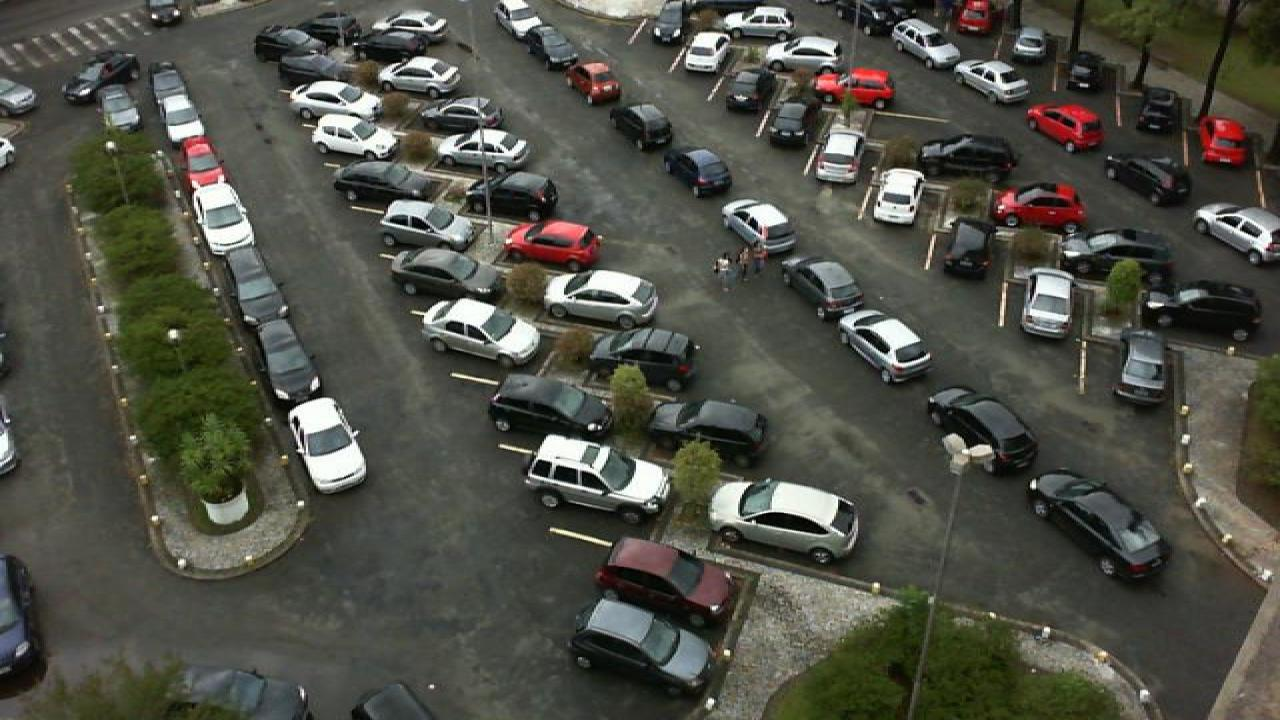Car: (1026, 467, 1176, 578), (564, 596, 714, 698), (592, 536, 740, 631), (706, 477, 864, 564), (522, 433, 676, 521), (926, 386, 1038, 476), (646, 398, 770, 470), (488, 372, 614, 440), (418, 297, 544, 363), (286, 396, 368, 495), (586, 324, 700, 392), (836, 308, 936, 385), (538, 267, 664, 328), (1144, 276, 1264, 338), (390, 246, 506, 301), (1064, 226, 1178, 281), (1188, 201, 1280, 268), (986, 182, 1092, 235), (500, 218, 604, 272), (258, 316, 324, 401), (780, 255, 866, 318), (378, 198, 478, 251), (224, 246, 290, 324), (1108, 326, 1174, 404), (716, 198, 800, 259), (190, 180, 260, 252), (468, 170, 562, 223), (1102, 153, 1192, 208), (916, 132, 1020, 178), (330, 158, 432, 204), (282, 79, 382, 125), (308, 112, 400, 162), (436, 126, 534, 172), (62, 50, 142, 106), (1018, 268, 1078, 341), (1022, 101, 1104, 152), (890, 16, 964, 72), (938, 216, 1000, 280), (662, 146, 736, 198), (952, 58, 1032, 106), (810, 66, 898, 108), (378, 55, 464, 96), (606, 102, 674, 153), (418, 95, 502, 136), (866, 169, 926, 226), (758, 35, 842, 75), (276, 51, 362, 90), (808, 128, 864, 184), (156, 89, 212, 143), (1196, 114, 1252, 168), (364, 9, 450, 44), (252, 24, 326, 62), (724, 62, 780, 109), (564, 60, 622, 105), (522, 25, 578, 71), (180, 136, 230, 187), (764, 99, 816, 147), (294, 9, 364, 44), (720, 6, 796, 37), (1136, 85, 1182, 135), (682, 28, 730, 74), (1064, 47, 1106, 96), (490, 0, 542, 37), (1008, 24, 1050, 68), (652, 1, 694, 44), (148, 60, 190, 98), (956, 0, 998, 38)
